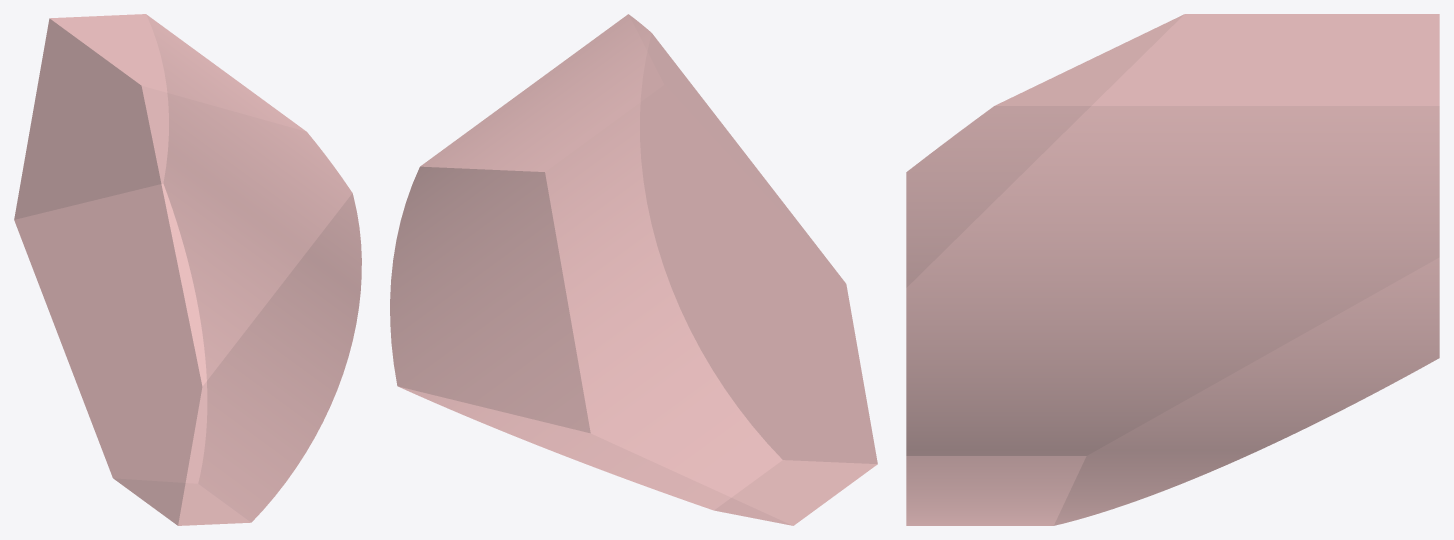
3 views of the same model, side by side, from view 1: azimuth 30°, elevation 25°; view 2: azimuth 150°, elevation 25°; view 3: azimuth 270°, elevation 25° (orthographic). The views are drawn at different scales.
Parts seen in each view (by area): view 1: Bloc = Etape 4; view 2: Bloc = Etape 4; view 3: Bloc = Etape 4.
Boxes of the visible parts, x1,y1,x2,y2 form: Bloc = Etape 4: [14, 14, 361, 525]; Bloc = Etape 4: [390, 14, 877, 525]; Bloc = Etape 4: [906, 14, 1439, 525].
Bounding box in the file's own units: 0.3229 × 0.614 × 0.5869.
